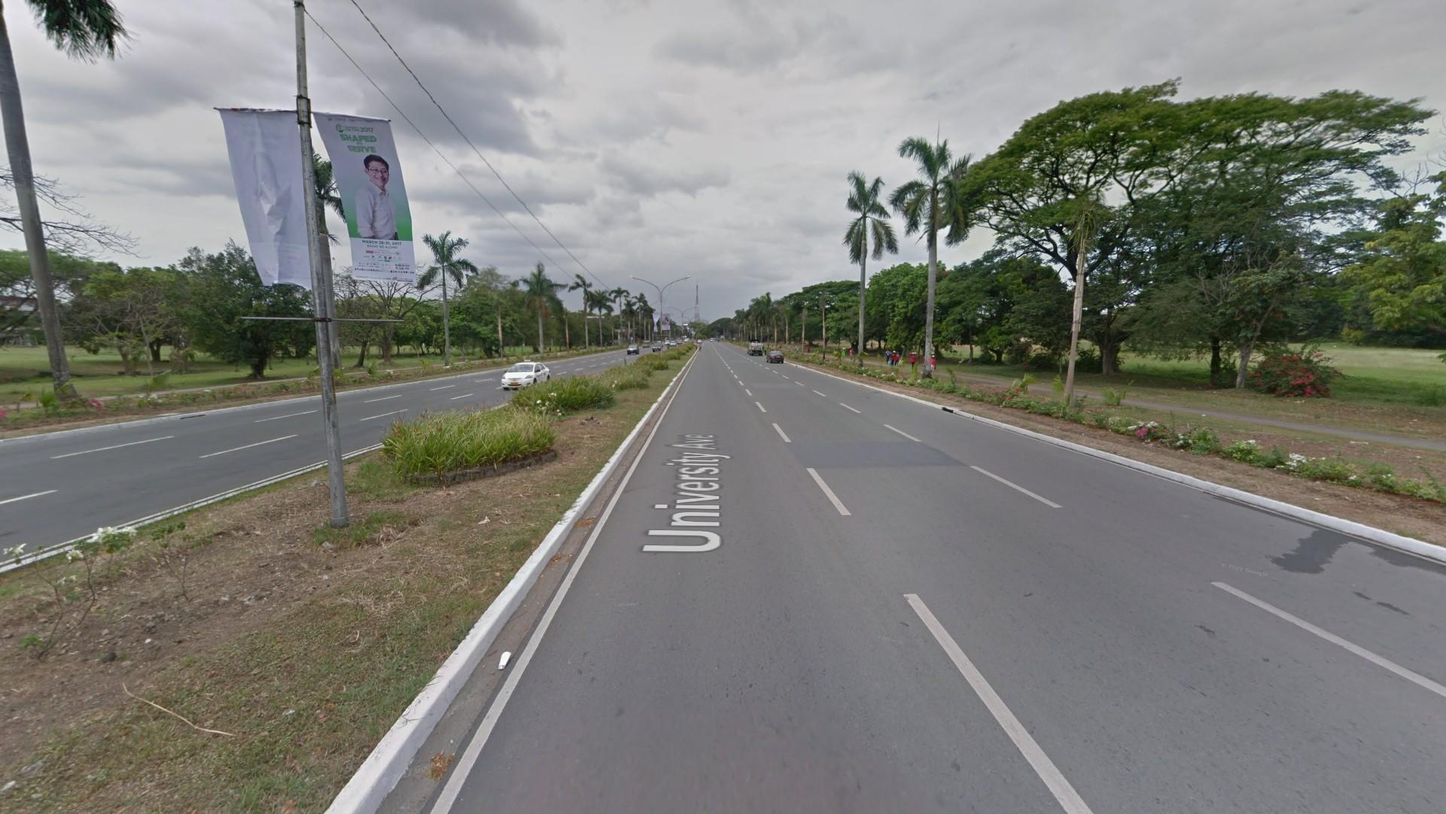pedestrian: (885, 349, 892, 365), (910, 352, 916, 370), (930, 355, 936, 372), (894, 351, 900, 367), (891, 350, 896, 366), (848, 348, 854, 361), (806, 343, 811, 354), (698, 343, 702, 352), (764, 344, 767, 356)
